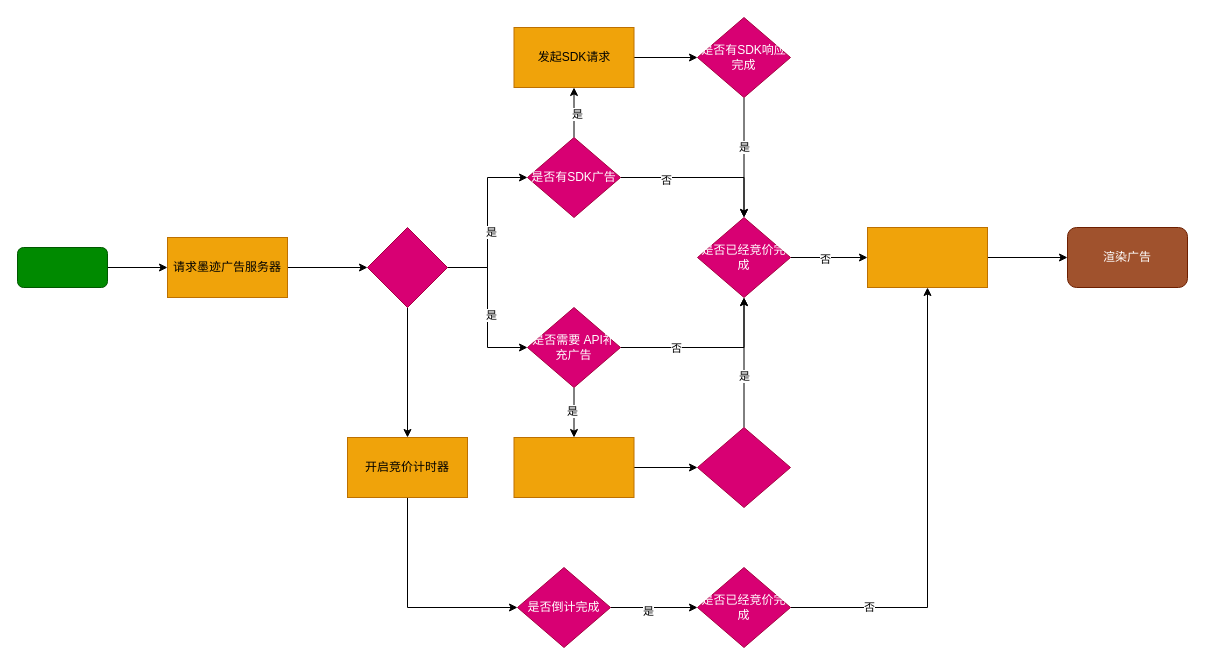
Image size: 1205x665. Some labels were removed from this diagram. Here are the shapes that lost their labels. From the top down, the centre of each, then its label:
At point 62,267: "开始".
At point 407,267: "是否响应成功".
At point 927,257: "可用素材统一集合竞价".
At point 573,467: "请求墨迹服务器获取API广告".
At point 743,467: "是否有API补充广告".
